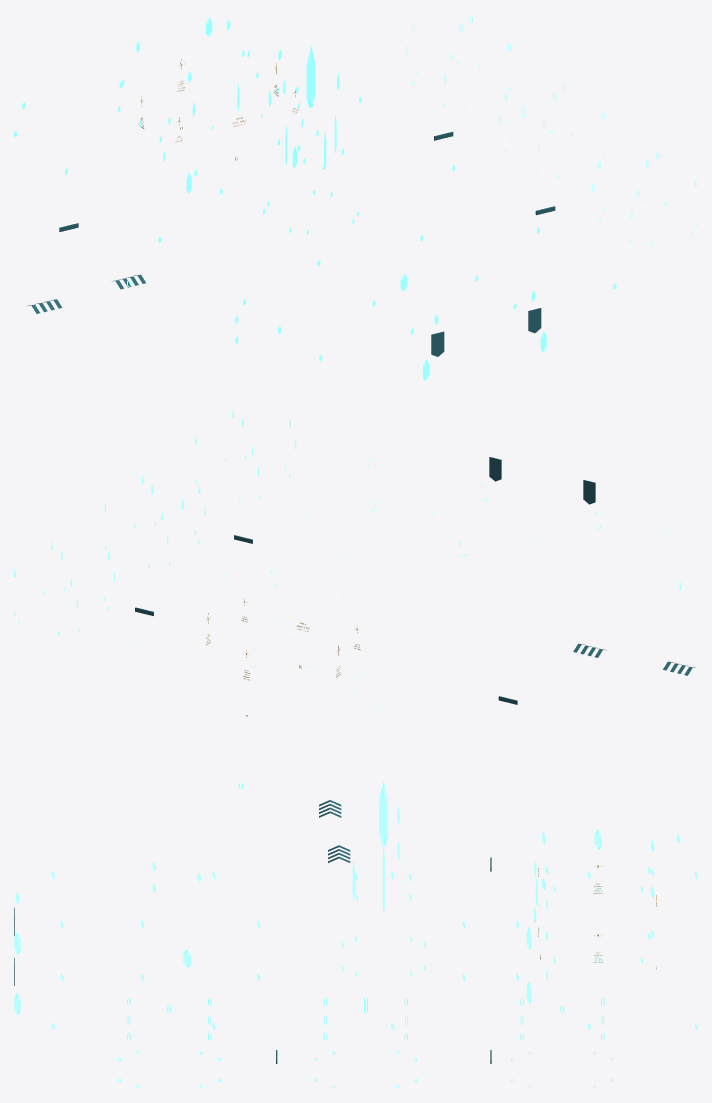
File: Neris-00.glb
The picture shows the model from 3 angles, top to bottom: view 1: azimuth 30°, elevation 25°; view 2: azimuth 150°, elevation 25°; view 3: azimuth 270°, elevation 25°; orthographic projection. The views are drawn at different scales.
Visible parts, largest first — view 1: Crystal Bright Facets.001, Neris Teal Banner; view 2: Neris Teal Banner, Crystal Bright Facets.001; view 3: Crystal Bright Facets.001, Neris Teal Banner.
Boxes of the visible parts, bbox=[...] form: Crystal Bright Facets.001: bbox=[14, 15, 697, 380]; Neris Teal Banner: bbox=[28, 131, 555, 356]; Neris Teal Banner: bbox=[135, 457, 695, 704]; Crystal Bright Facets.001: bbox=[14, 409, 681, 751]; Crystal Bright Facets.001: bbox=[14, 780, 697, 1088]; Neris Teal Banner: bbox=[14, 800, 491, 1063].
Size of the model in its own units: 78.11 by 25.16 by 76.56.
